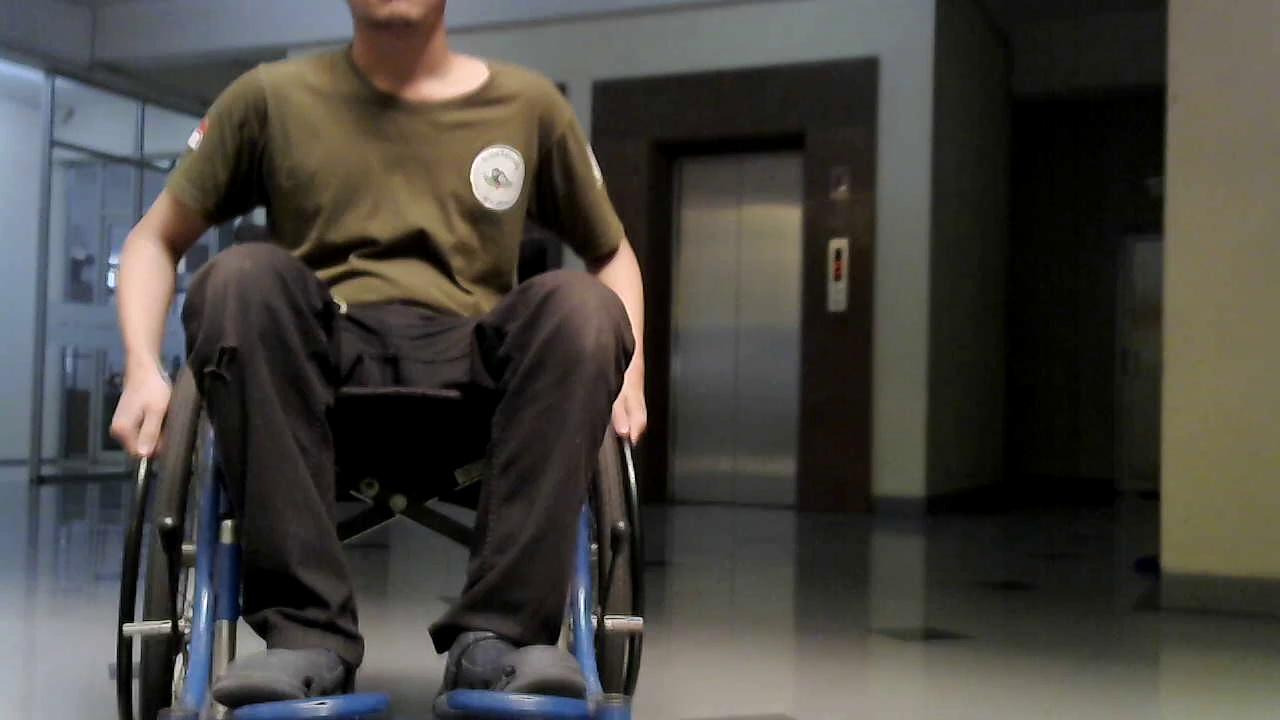person: (108, 3, 647, 705)
wheelchair: (81, 194, 675, 720)
